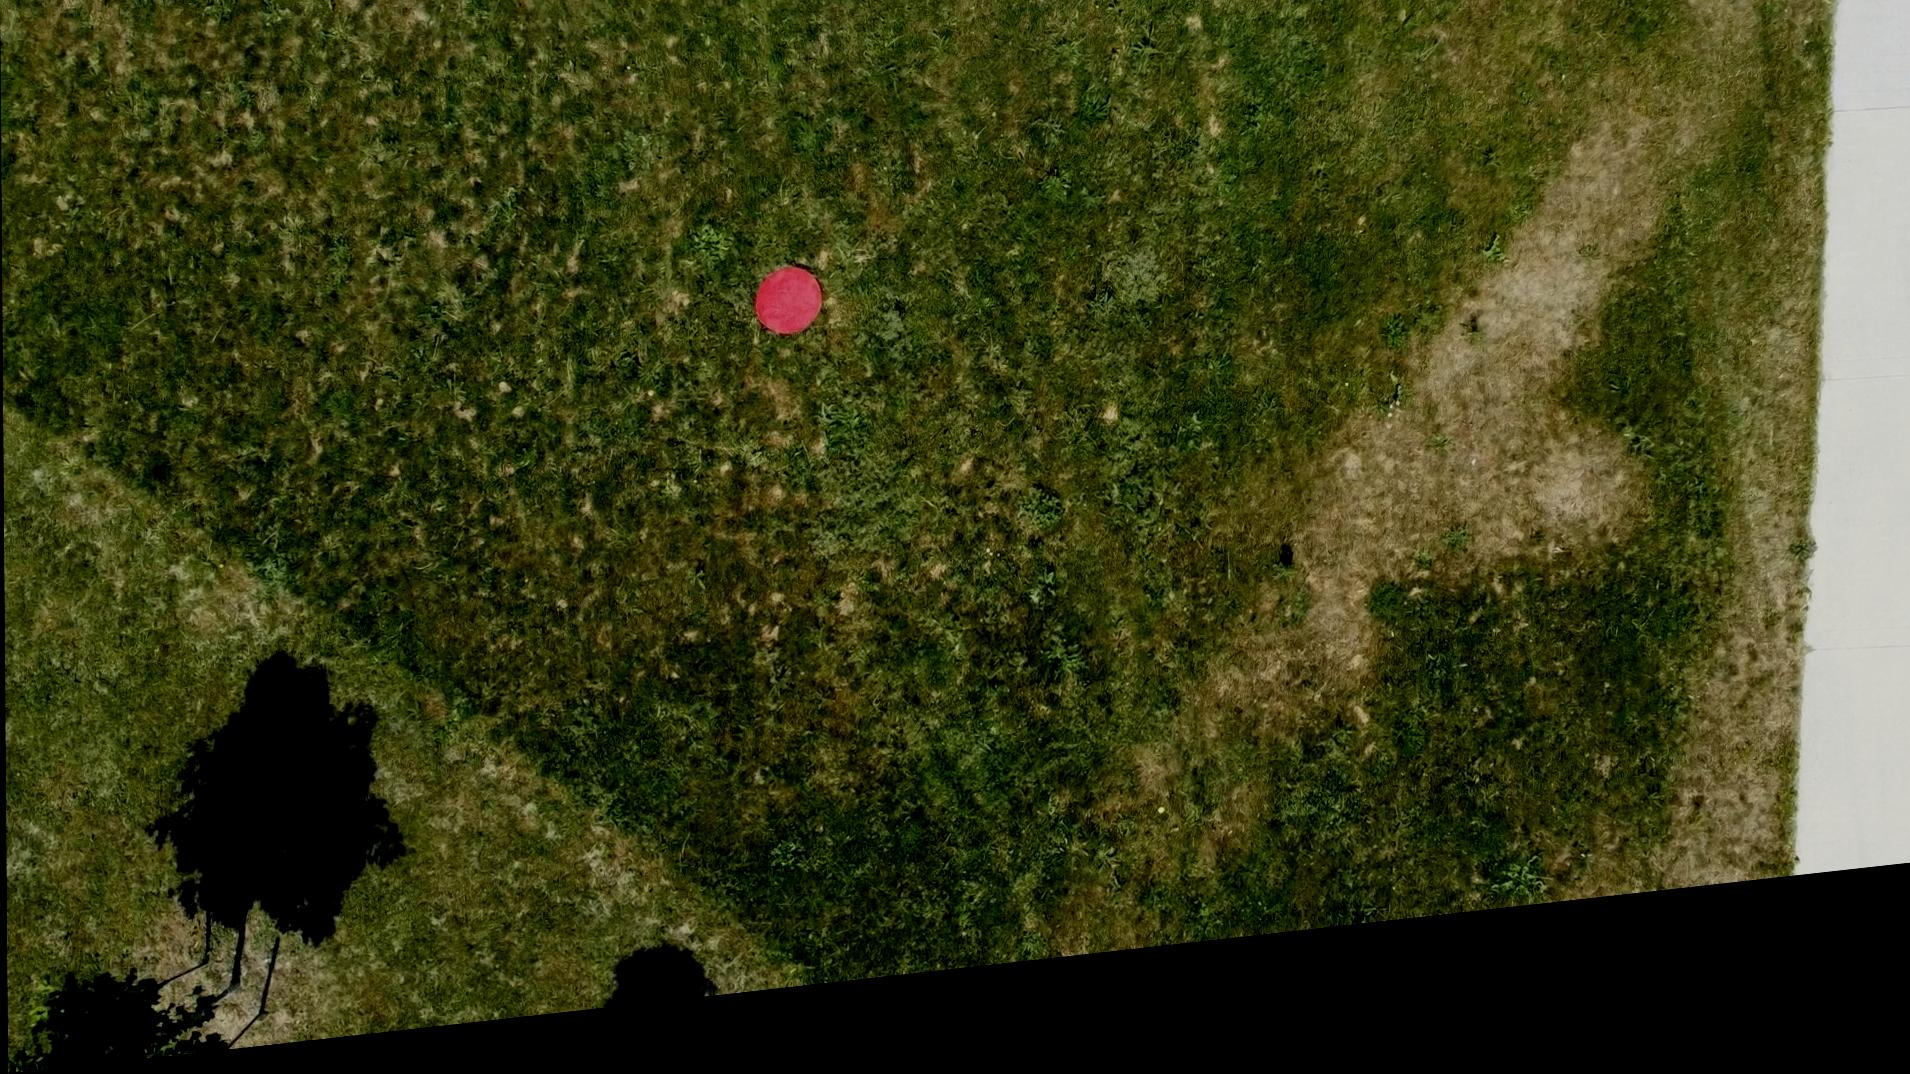Red: (749, 279, 824, 359)
